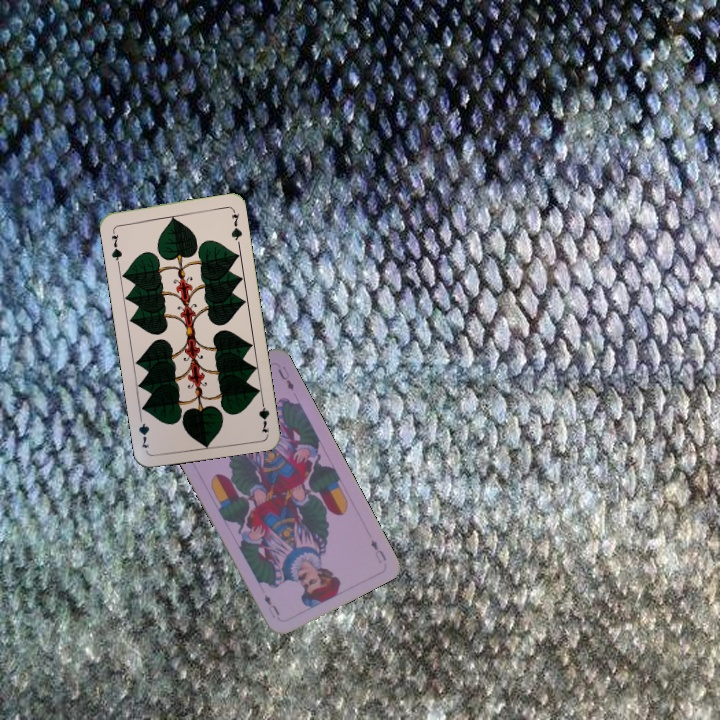EU: (367, 535, 389, 566)
G7: (255, 394, 272, 435), (107, 226, 124, 266)
